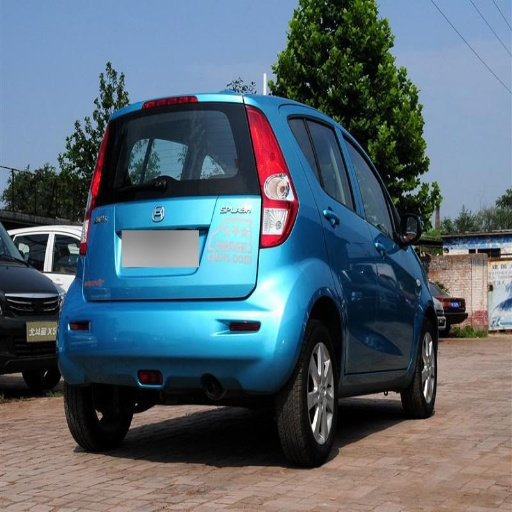back_bumper: (59, 245, 314, 405)
back_right_door: (303, 116, 380, 362)
tailgate: (161, 208, 252, 294)
trunk: (85, 182, 262, 297)
